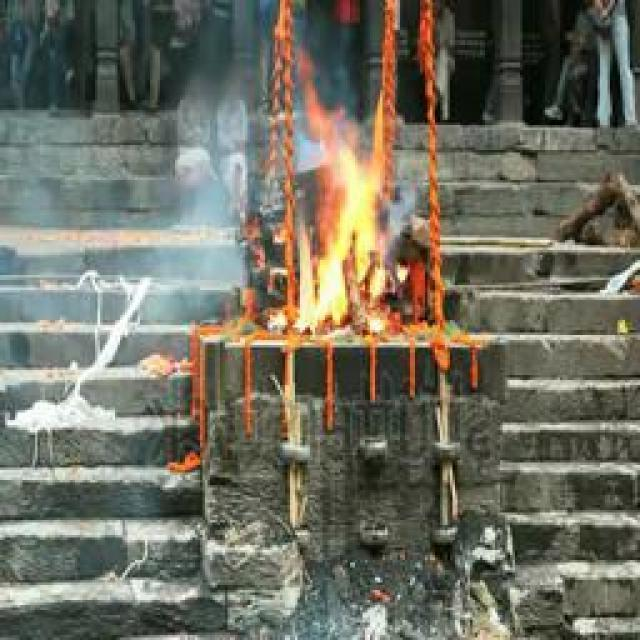Fire: (296, 139, 388, 336)
